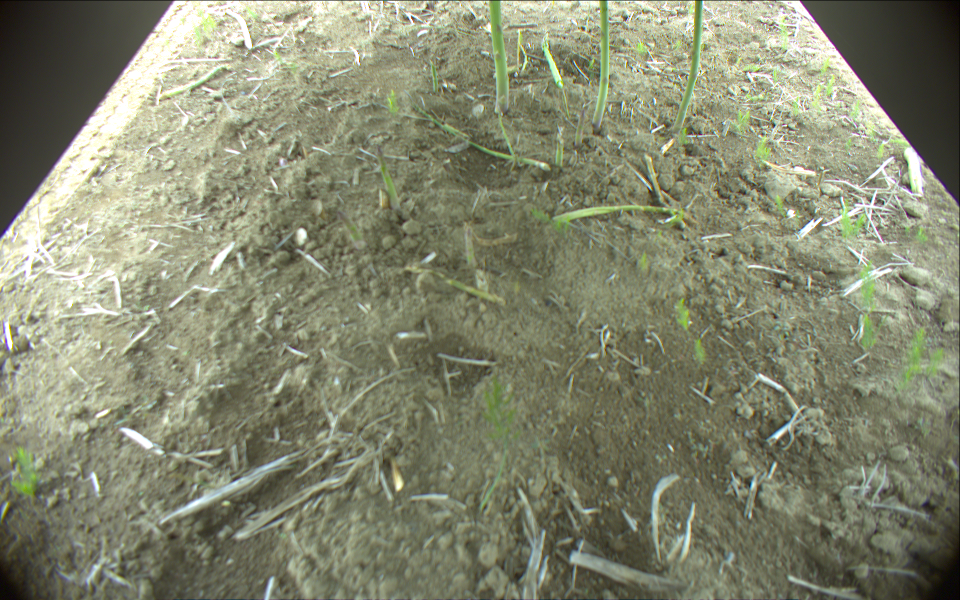aspa: (407, 95, 548, 172), (673, 1, 704, 135), (404, 266, 506, 305), (551, 205, 699, 224), (157, 65, 228, 100), (488, 1, 509, 116), (592, 1, 609, 129), (375, 143, 401, 209), (541, 37, 564, 89), (336, 211, 365, 249), (226, 11, 253, 50), (575, 97, 591, 145), (462, 225, 477, 269), (554, 129, 565, 168), (429, 58, 439, 91)
